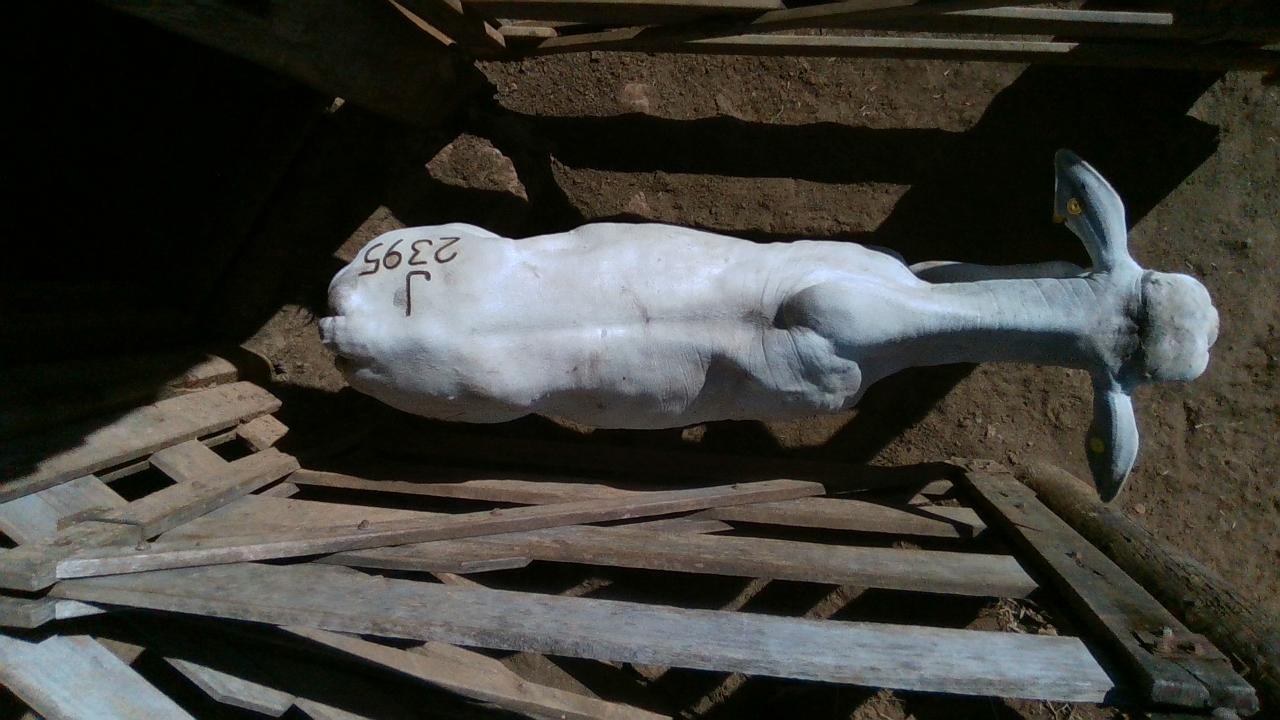cattle: (316, 147, 1220, 502)
